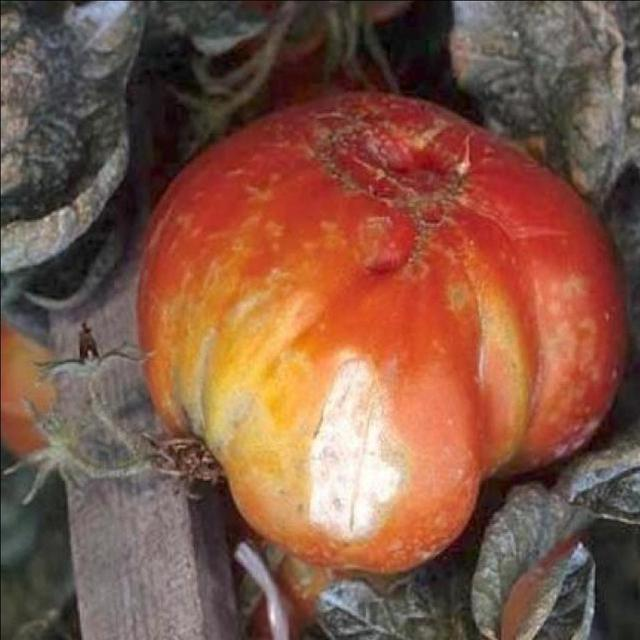Sunscald Fruit: (204, 218, 276, 370)
